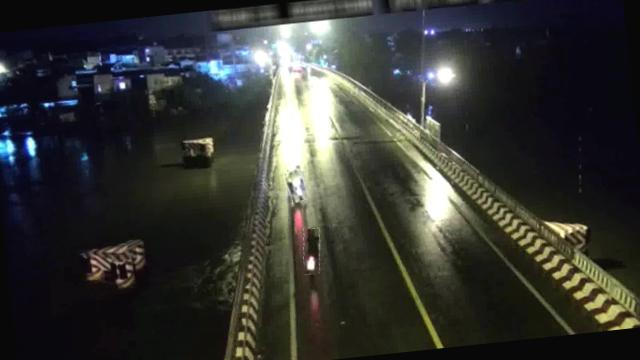Bike: (300, 228, 322, 276), (285, 169, 308, 204)
